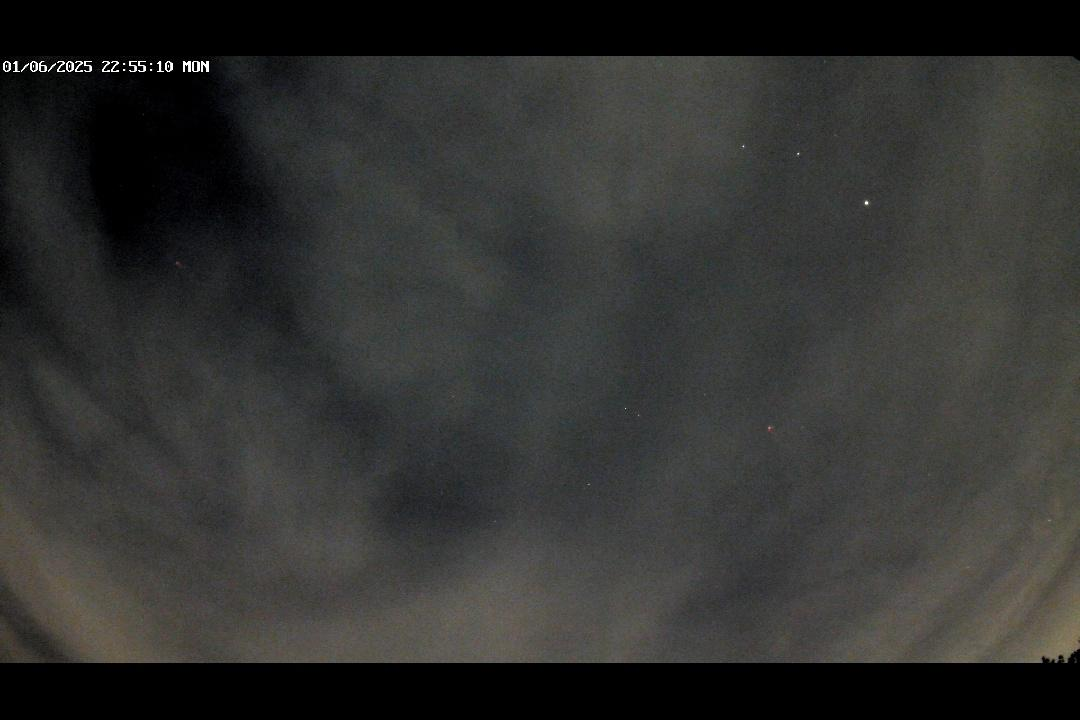Plane: (756, 412, 798, 466)
